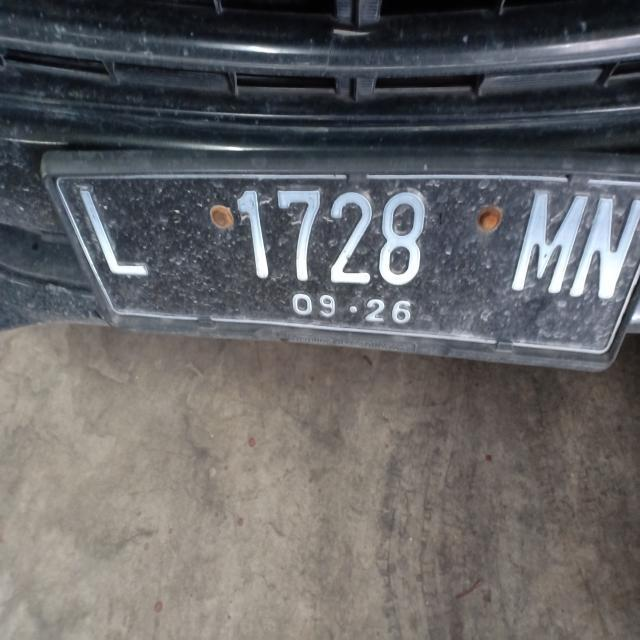1: (232, 183, 276, 280)
2: (324, 186, 377, 288)
7: (277, 182, 323, 292)
8: (377, 186, 434, 290)
L: (68, 172, 154, 286)
M: (517, 183, 585, 294)
N: (586, 193, 640, 307)
